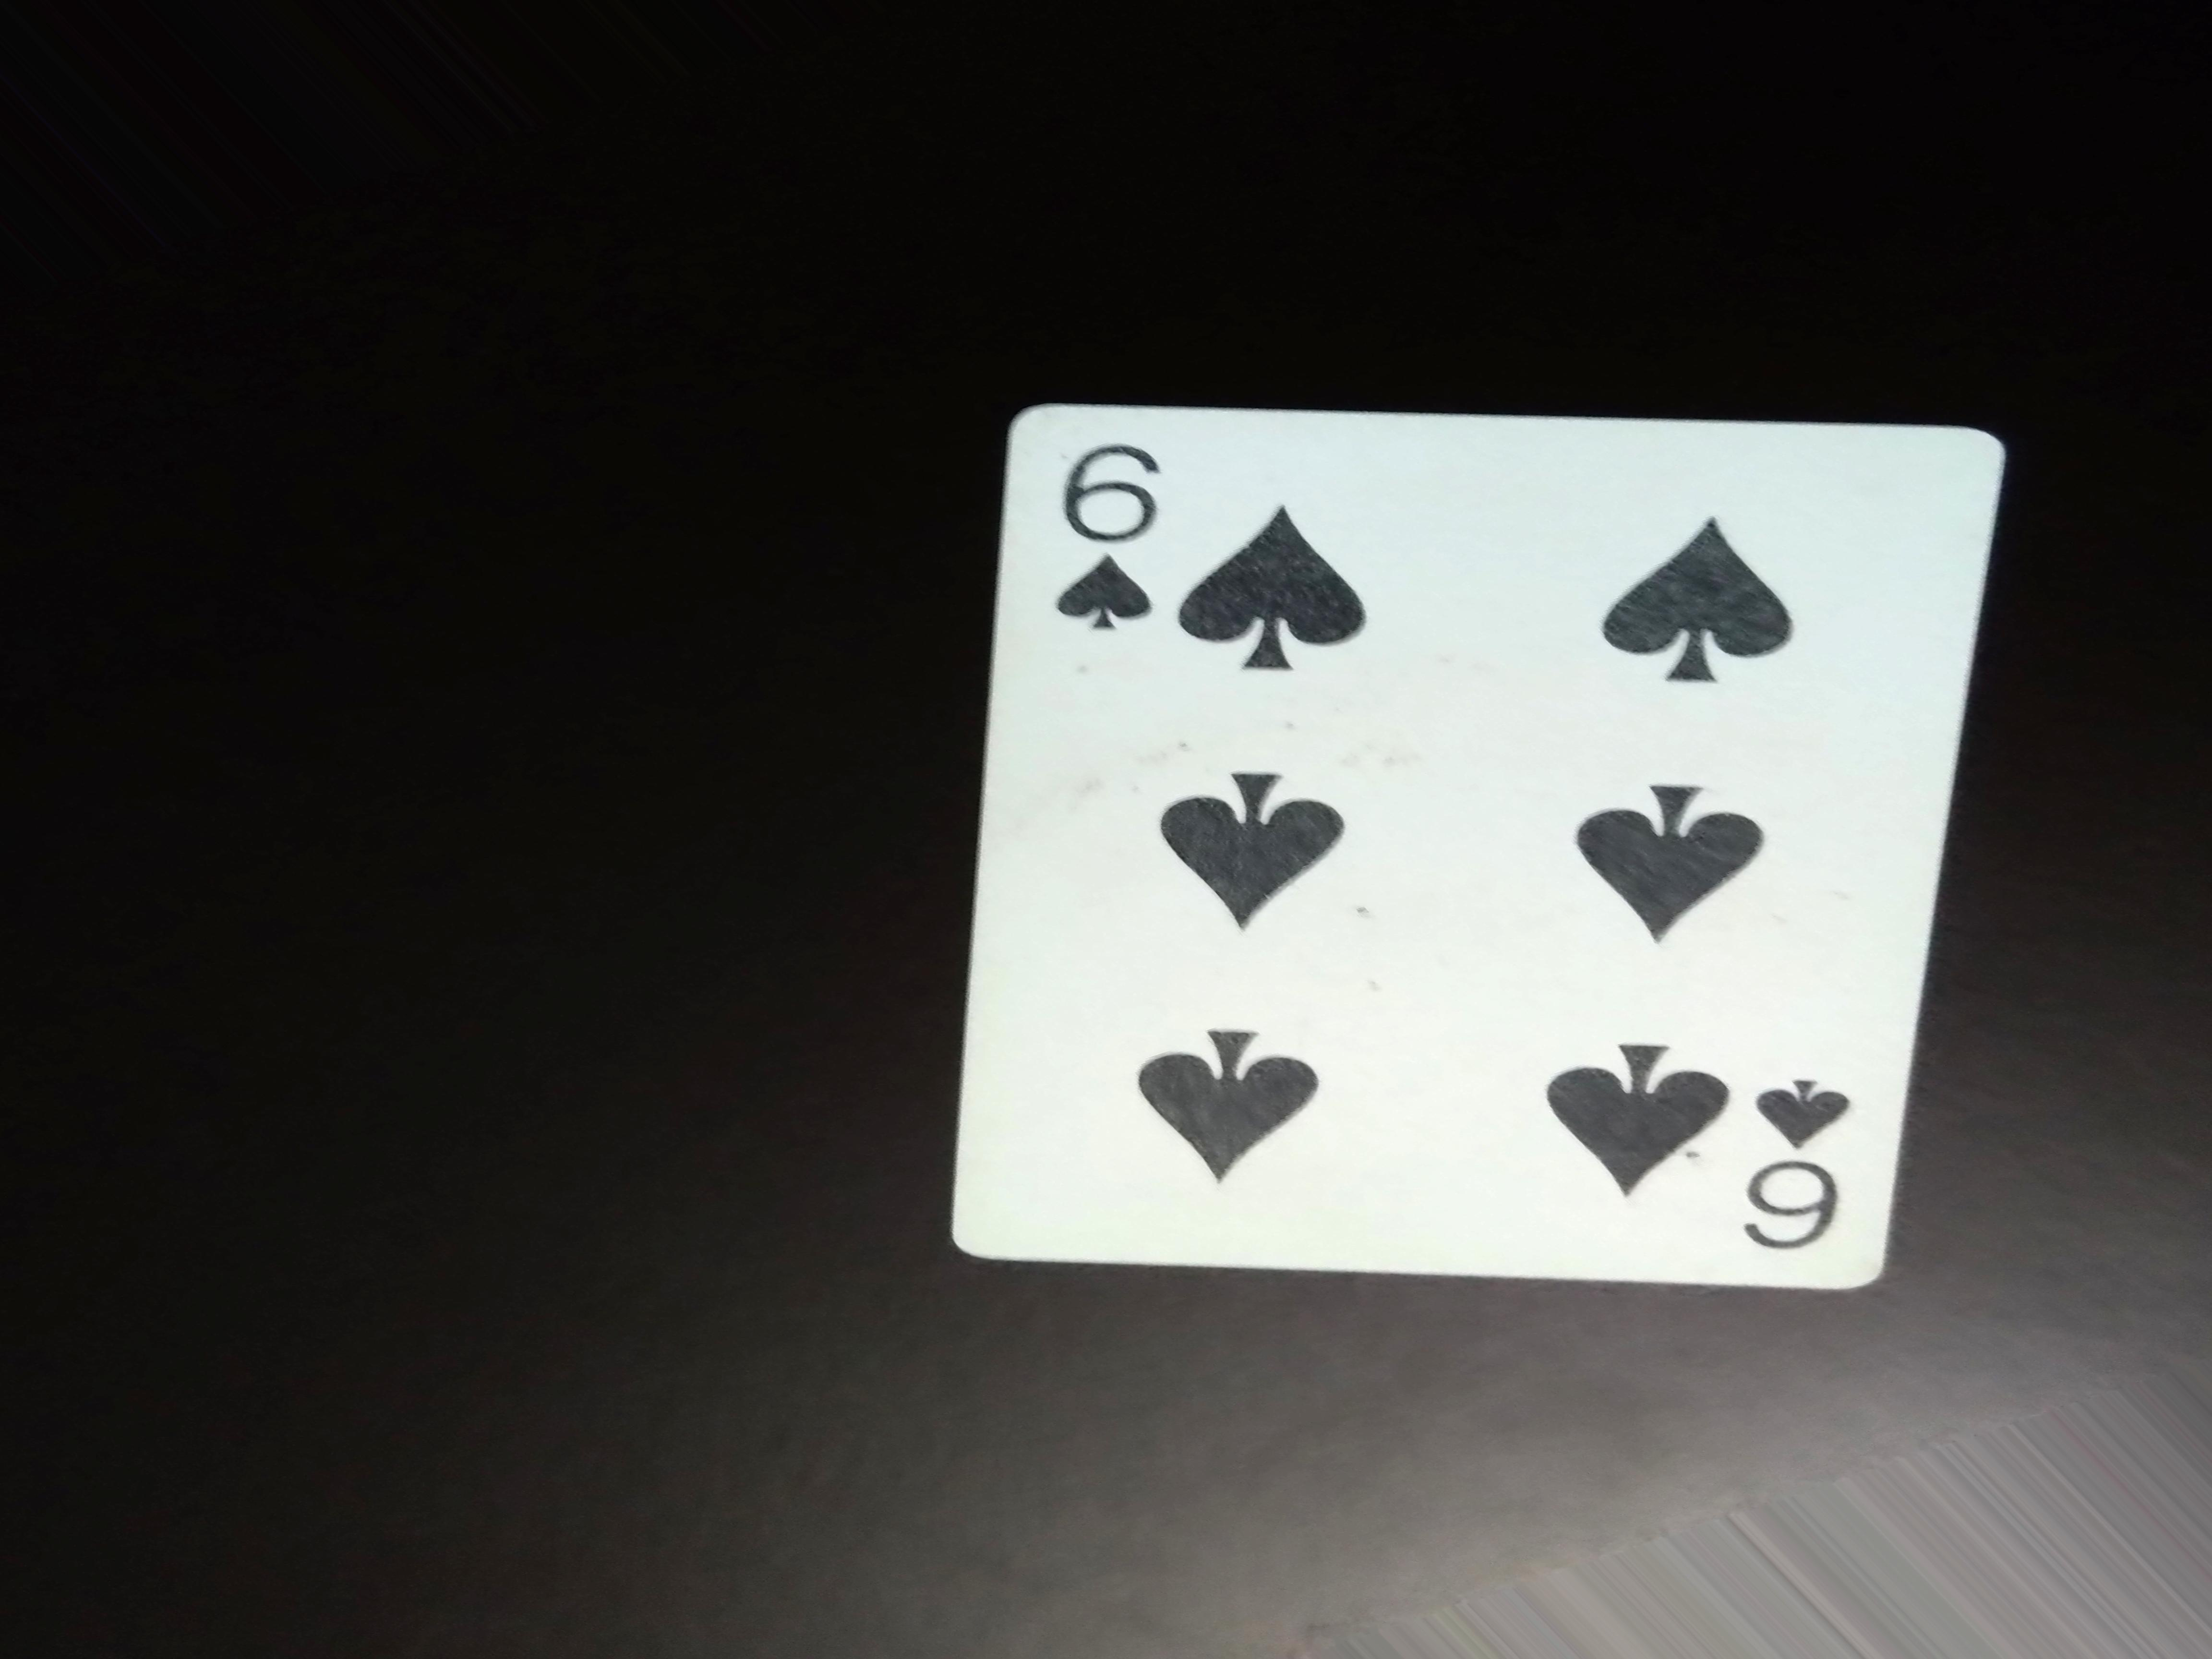6S: (1743, 1060, 1871, 1267)
